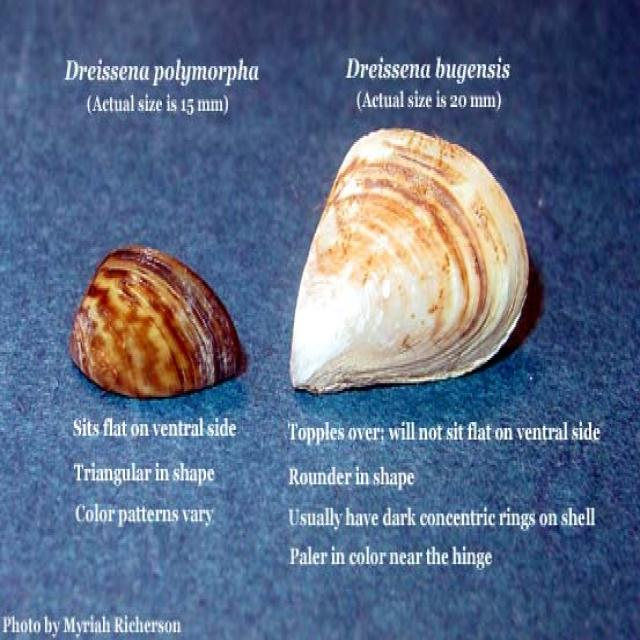Dreissena_bugensis: (292, 128, 530, 397)
Dreissena_polymorpha: (71, 247, 244, 401)
